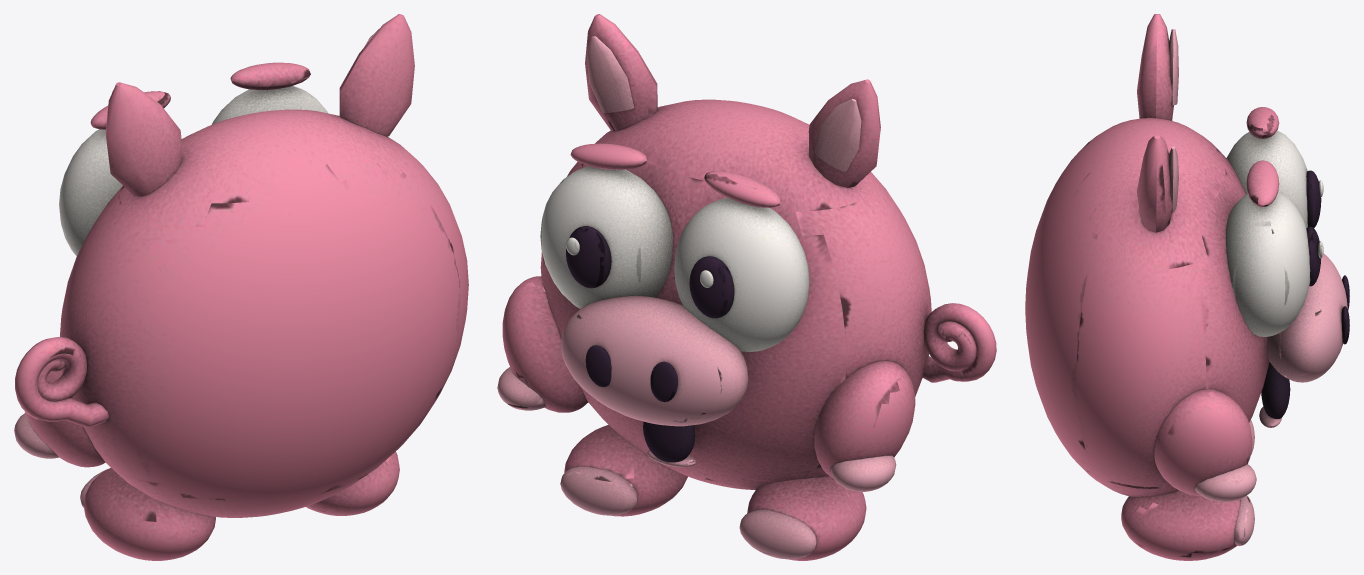
3 views of the same model, side by side, from view 1: azimuth 30°, elevation 25°; view 2: azimuth 150°, elevation 25°; view 3: azimuth 270°, elevation 25° (orthographic). The views are drawn at different scales.
Visible parts, largest first — view 1: Pig_glossy_pink, Warm_white_eyes, Snout_and_inner_ear_pink; view 2: Pig_glossy_pink, Snout_and_inner_ear_pink, Warm_white_eyes, Deep_plum_facial_features; view 3: Pig_glossy_pink, Warm_white_eyes, Snout_and_inner_ear_pink, Deep_plum_facial_features.
Boxes of the visible parts, x1,y1,x2,y2 form: Pig_glossy_pink: (15, 14, 468, 560); Warm_white_eyes: (59, 86, 328, 255); Snout_and_inner_ear_pink: (14, 29, 378, 507); Pig_glossy_pink: (502, 14, 996, 560); Snout_and_inner_ear_pink: (497, 36, 896, 559); Warm_white_eyes: (540, 166, 809, 351); Deep_plum_facial_features: (566, 226, 734, 462); Pig_glossy_pink: (1025, 14, 1279, 560); Warm_white_eyes: (1226, 130, 1323, 336); Snout_and_inner_ear_pink: (1169, 29, 1347, 545); Deep_plum_facial_features: (1261, 170, 1349, 418).
Bounding box in the file's own units: 0.7928 × 0.7989 × 0.5359.
Materials: 4 (4 with a texture image).
